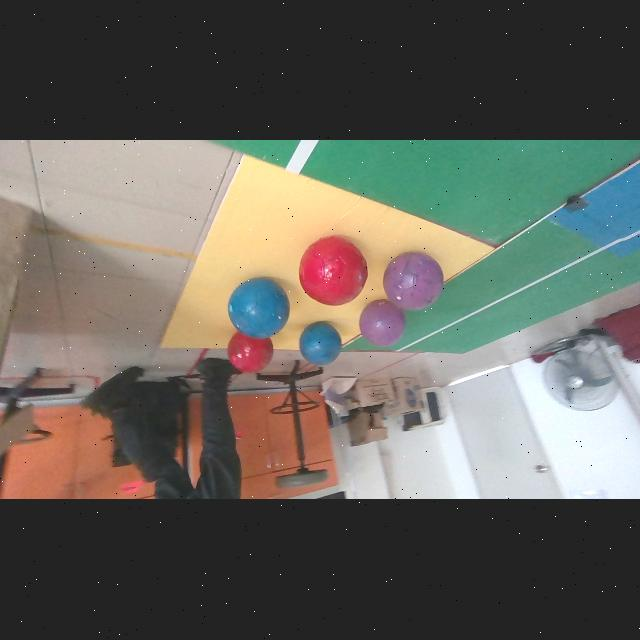B: (229, 279, 290, 340), (300, 322, 342, 367)
P: (385, 254, 443, 310), (359, 301, 405, 348)
R: (298, 237, 368, 306), (229, 333, 273, 373)
